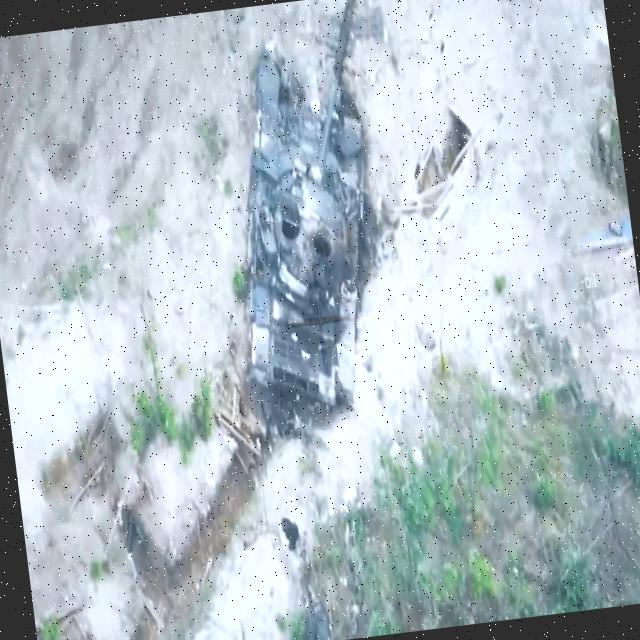MBT: (200, 1, 408, 423)
